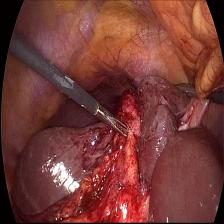Grasper: (94, 100, 128, 141), (175, 78, 197, 102)
